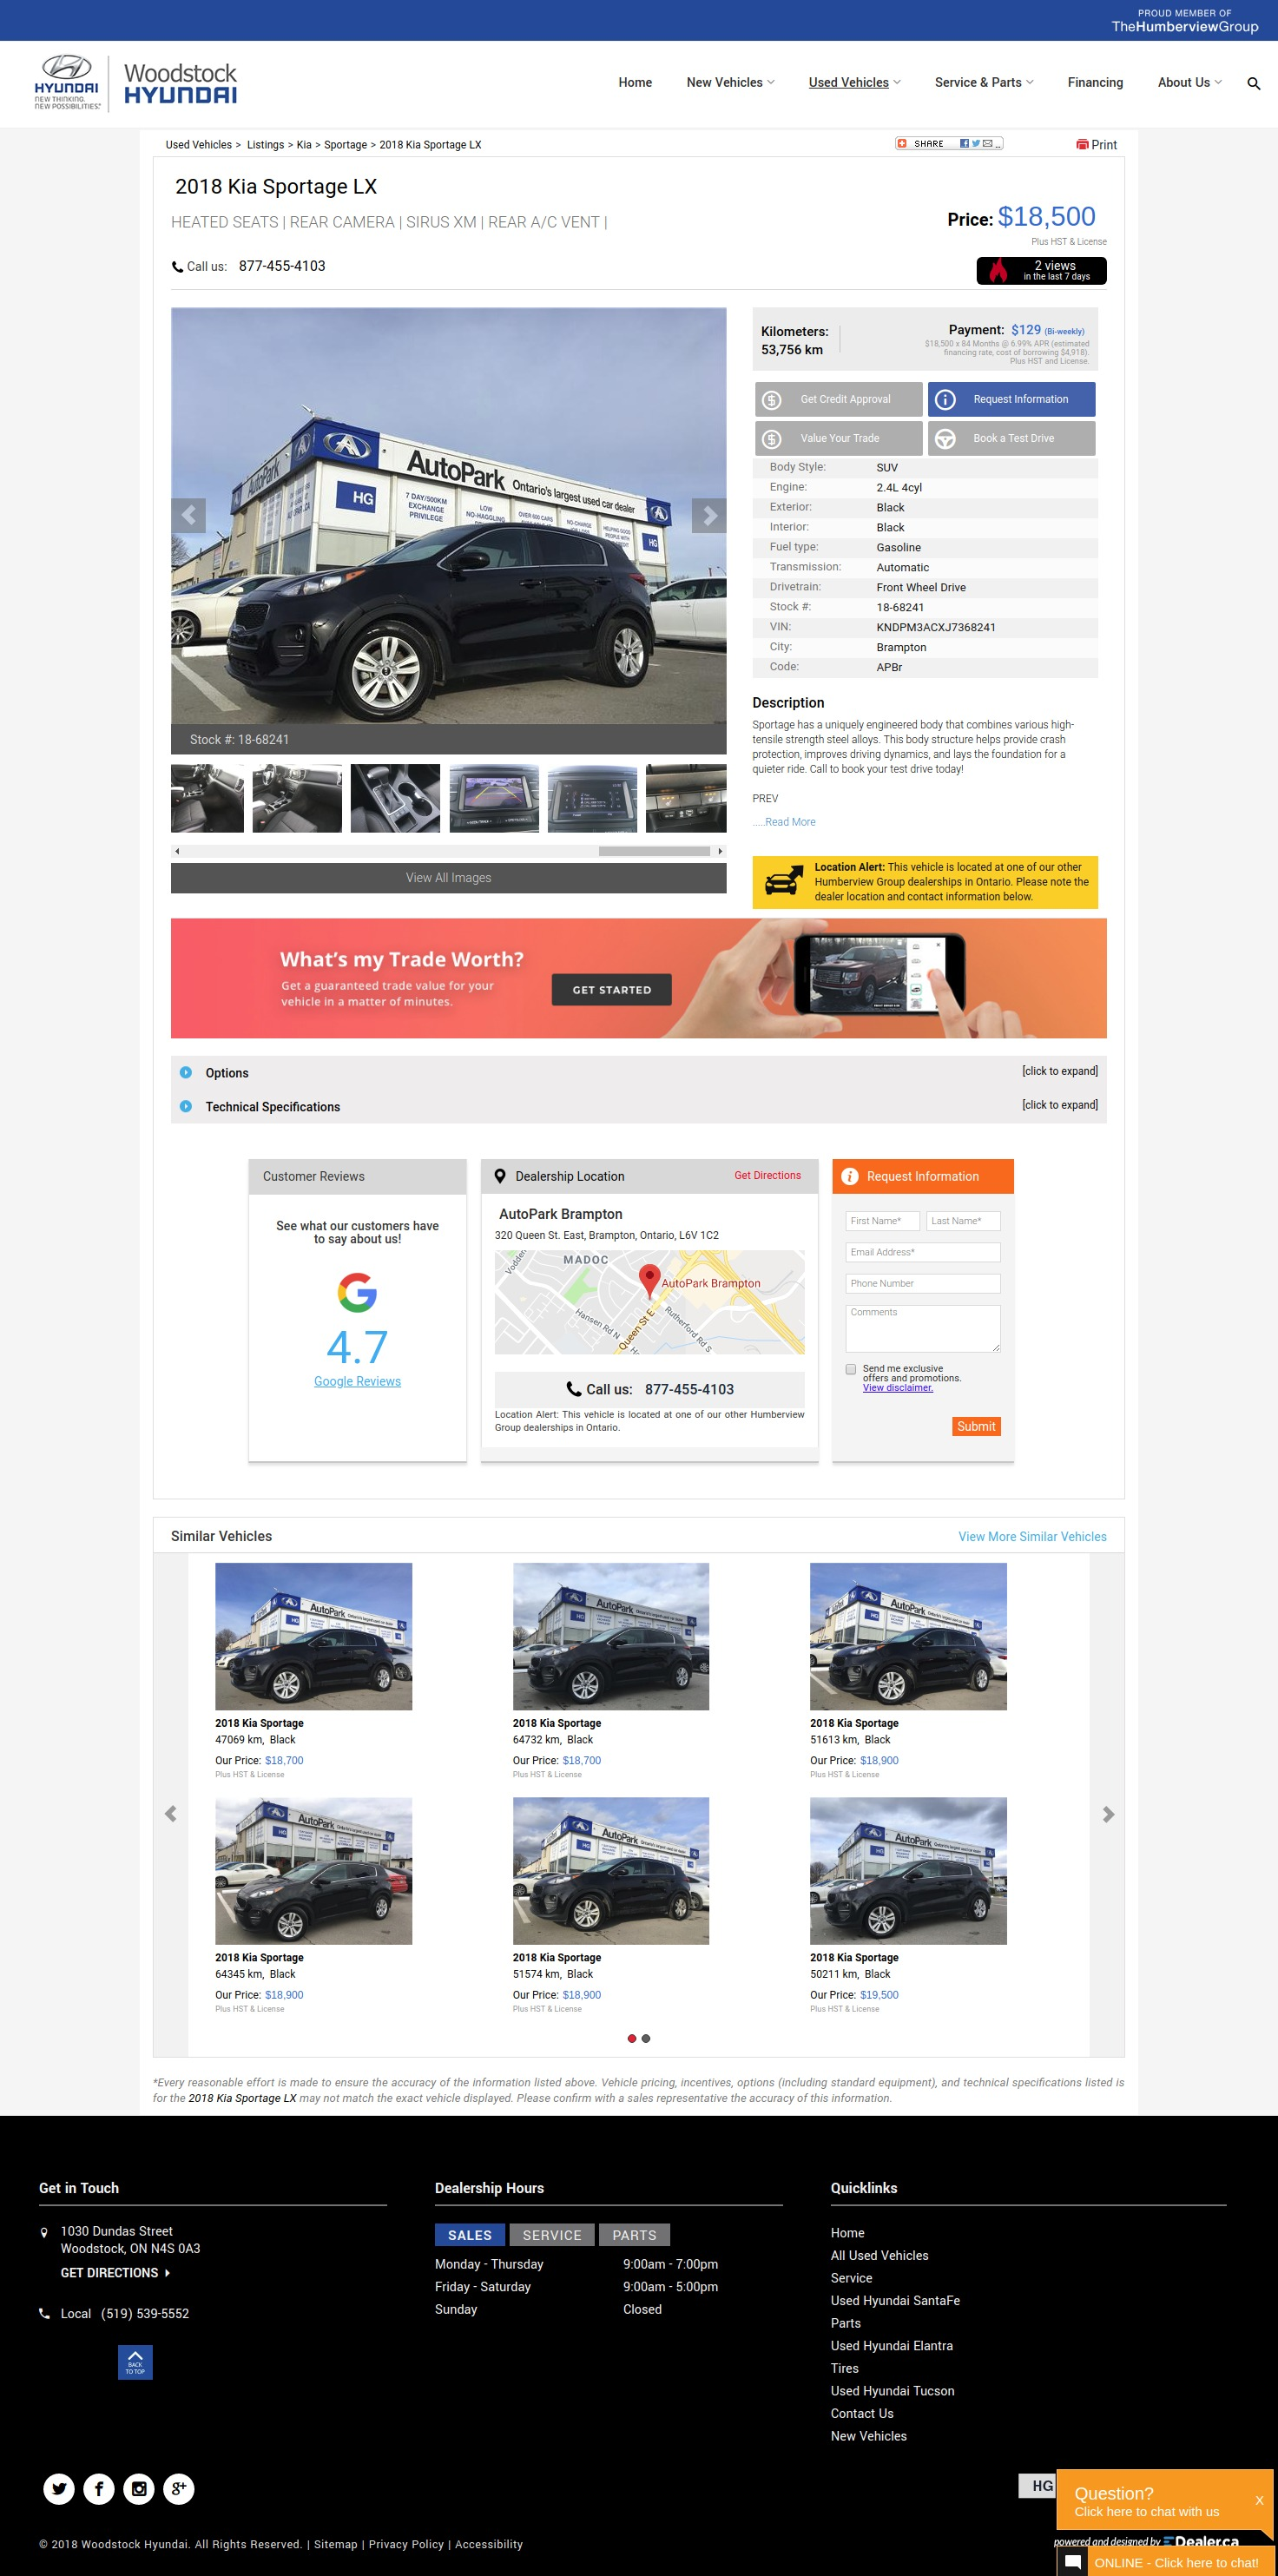car: (719, 848, 723, 856)
